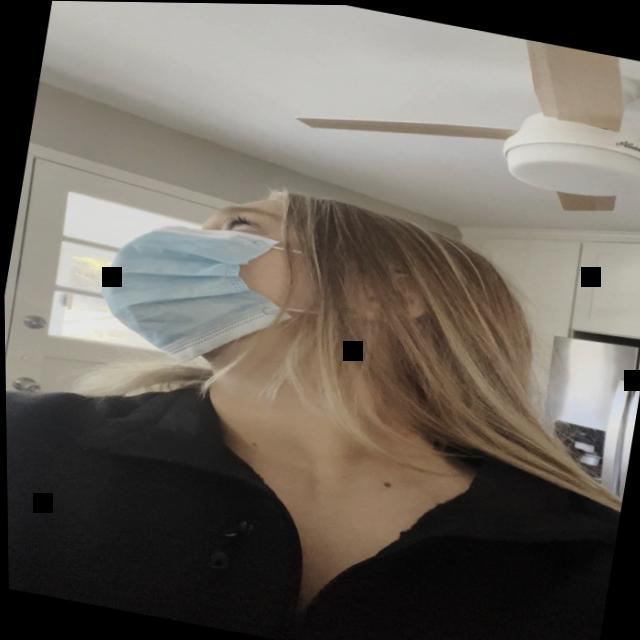Mask: (89, 153, 396, 397)
